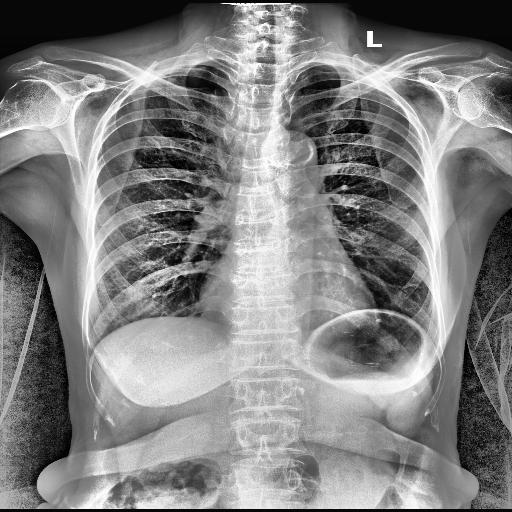0- Aortic enlargement: (264, 127, 324, 191), (260, 129, 319, 173), (266, 128, 318, 172)
11- Pleural thickening: (311, 60, 362, 75), (160, 62, 206, 76)
2- Calcification: (290, 140, 314, 166)
3- Cardiomegaly: (198, 288, 380, 332)
9- Other lesion: (307, 306, 437, 342)
